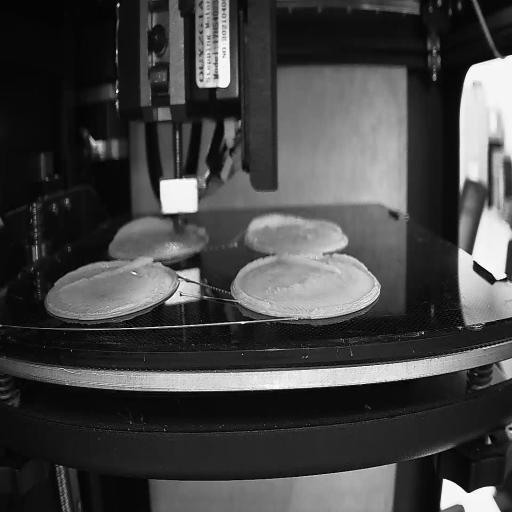over_extrusion: (58, 255, 153, 292), (278, 251, 368, 278), (233, 254, 275, 308), (116, 218, 174, 242), (248, 211, 304, 233), (318, 217, 344, 233)
